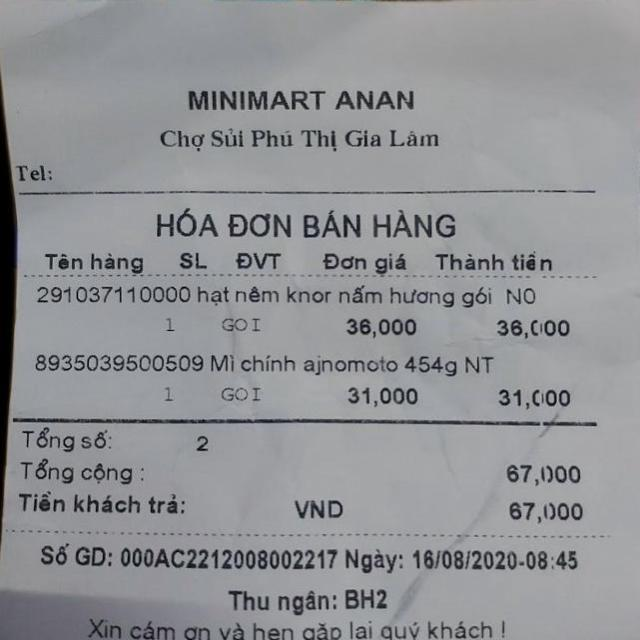Date: (412, 546, 519, 577)
Store_Name: (157, 64, 423, 119)
Total_Amount: (18, 449, 616, 495)
